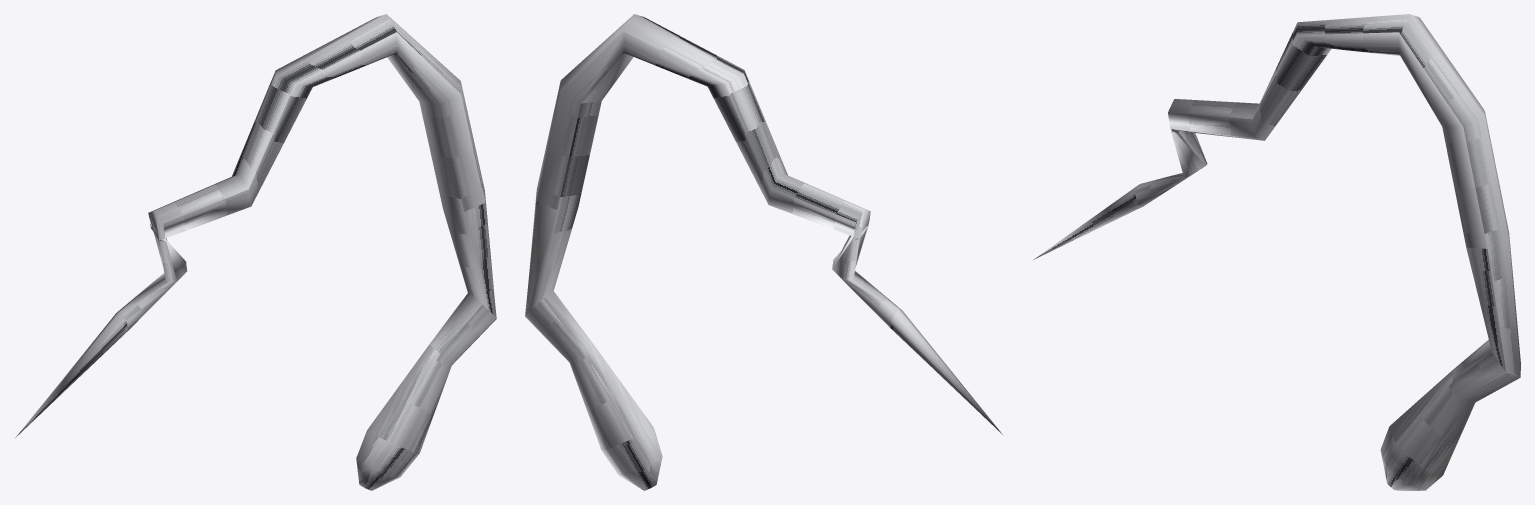
File: snake_000036.obj
3 renders of one model, left to right at view 1: azimuth 30°, elevation 25°; view 2: azimuth 150°, elevation 25°; view 3: azimuth 330°, elevation 25°, orthographic. The views are drawn at different scales.
Visible parts, largest first — view 1: Cylinder; view 2: Cylinder; view 3: Cylinder.
Part boxes in pixels (x1,y1,x2,y2): Cylinder: (15, 14, 496, 490); Cylinder: (525, 14, 1002, 490); Cylinder: (1033, 14, 1520, 490).
Size of the model in its own units: 4.79 by 4.51 by 0.3671.
